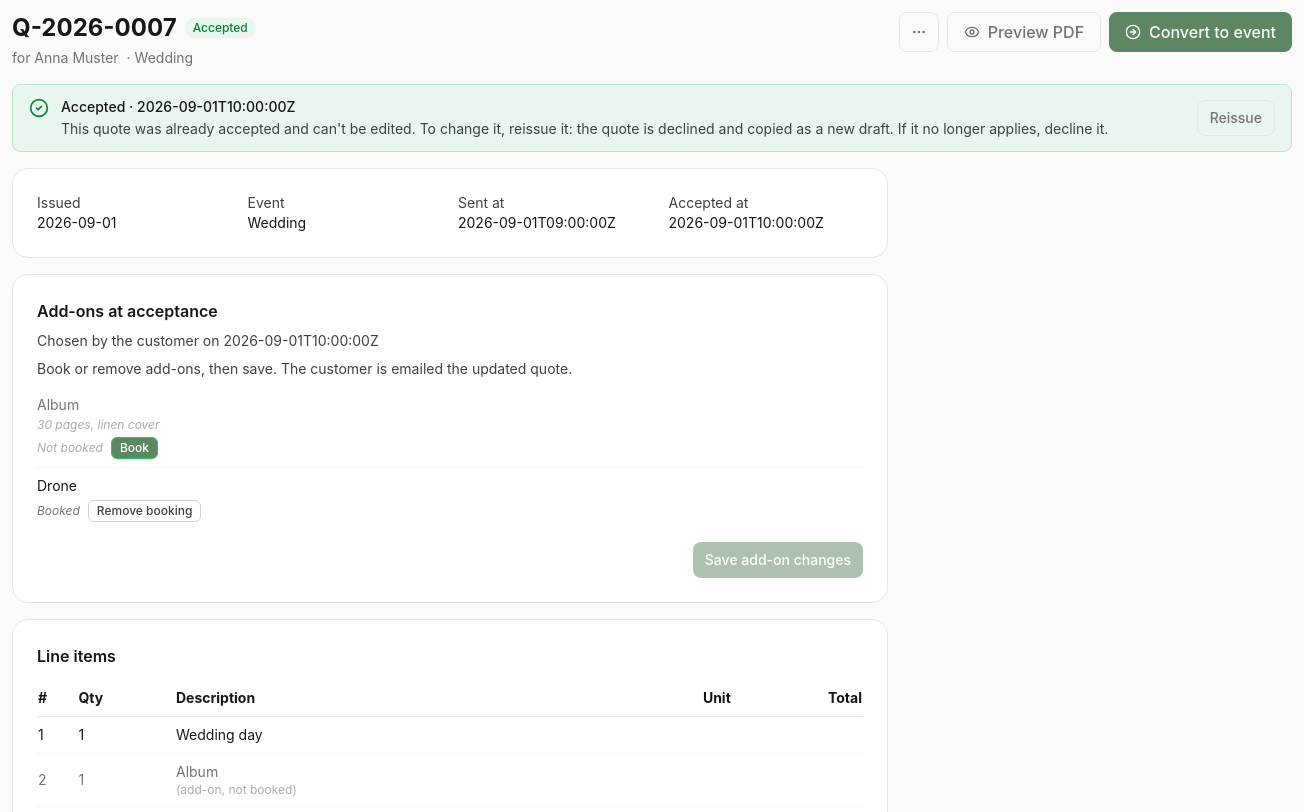
Test: says why an accepted quote can't be edited and how to change it
Expected: the text "reissue it" is shown, x1=61 y1=120 x2=1108 y2=137
Expected: the button "Reissue" is shown, x1=1197 y1=100 x2=1275 y2=136
Click the button named "More actions": (919, 32) x1=899 y1=12 x2=939 y2=52
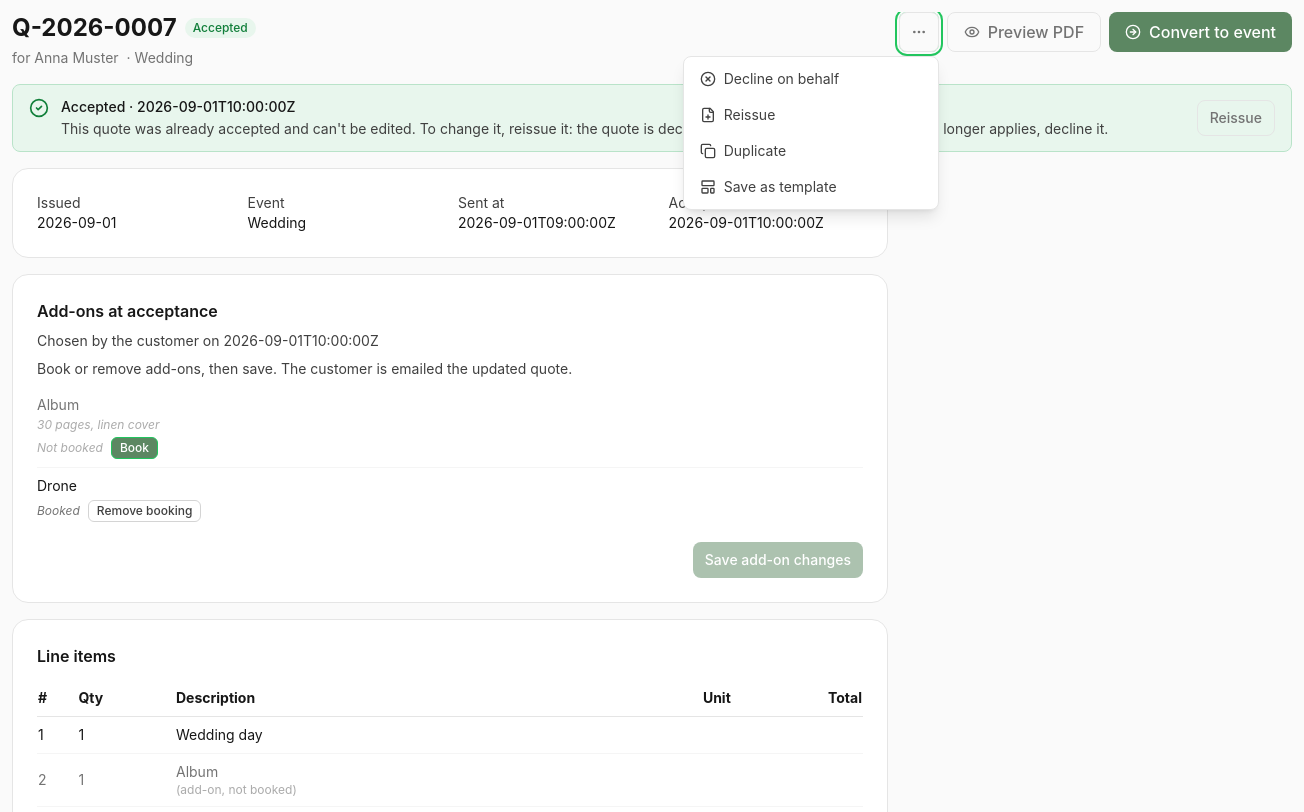
Now the menu item "Decline on behalf" is shown, box x1=688 y1=61 x2=934 y2=97
